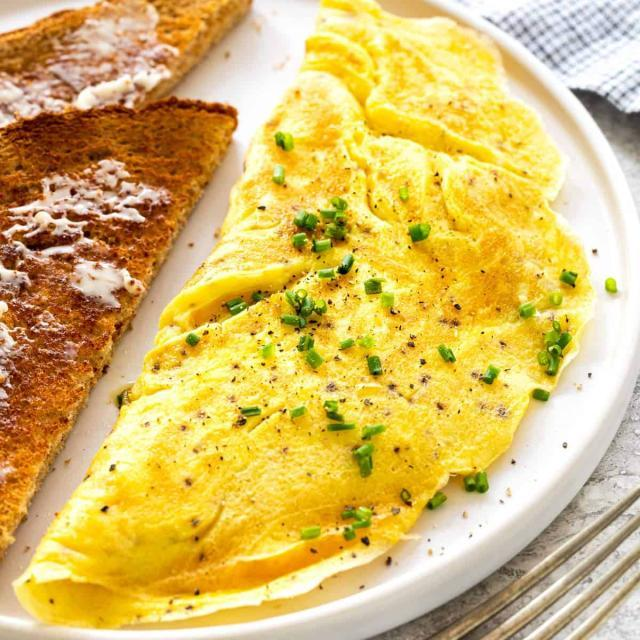telur_ayam_dadar: (11, 0, 597, 629)
